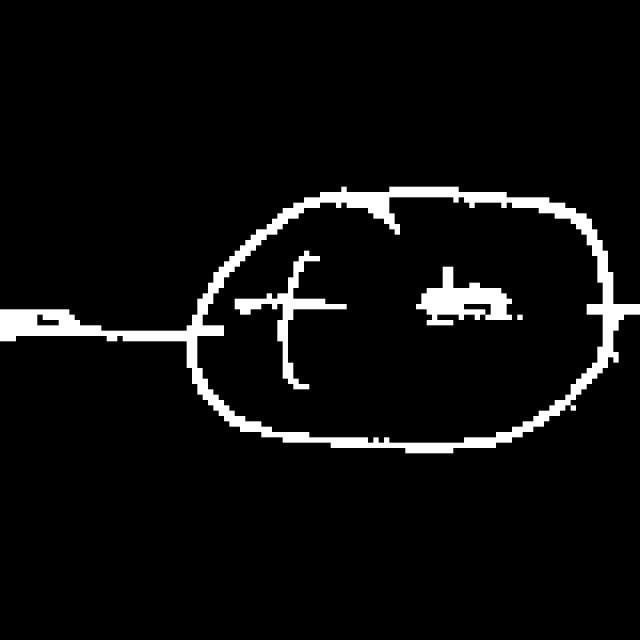voltage_source: (186, 167, 623, 464)
